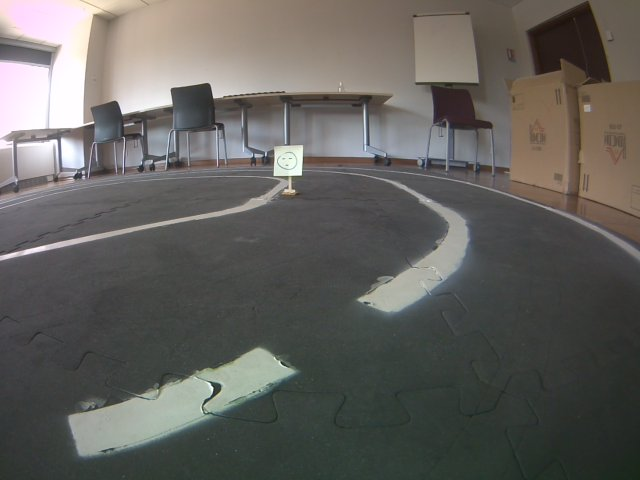Smiley: (272, 144, 304, 177)
